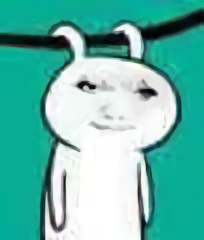dragon: (75, 77, 160, 134)
